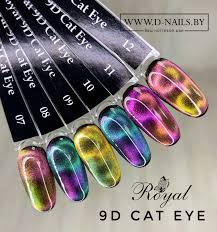nail: (146, 55, 208, 117), (121, 83, 180, 145), (97, 104, 153, 169), (43, 136, 91, 202), (73, 122, 121, 187), (17, 145, 57, 211)
